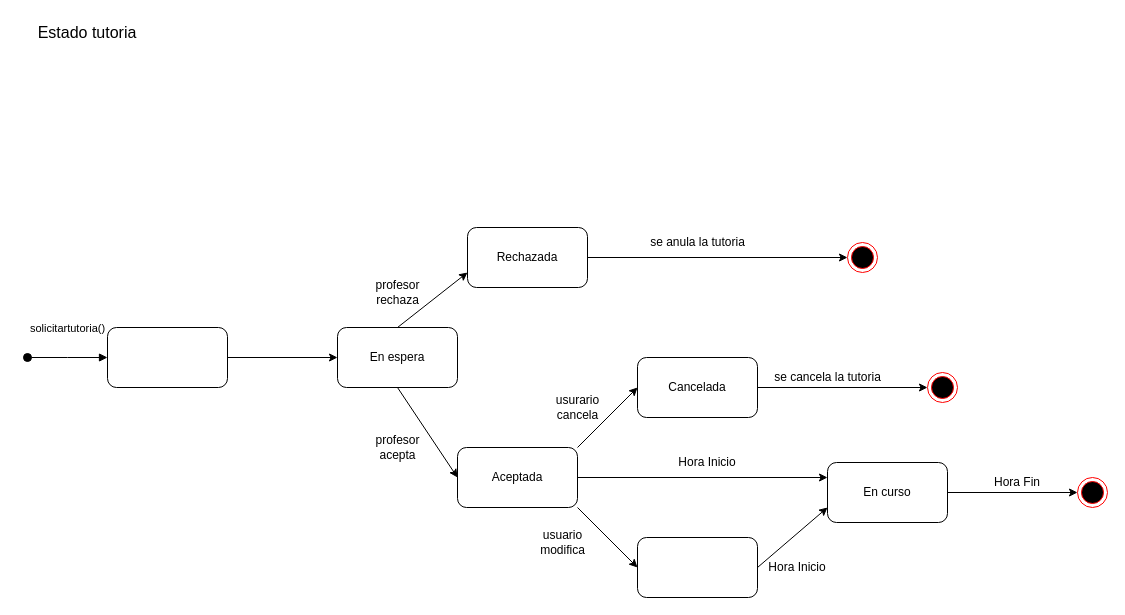
This 1125x615 diagram has some shape labels left out. The centre of each missing label's shape, as x and y in pixels:
Modificada: point 697,567
Solicitada: point 167,357
